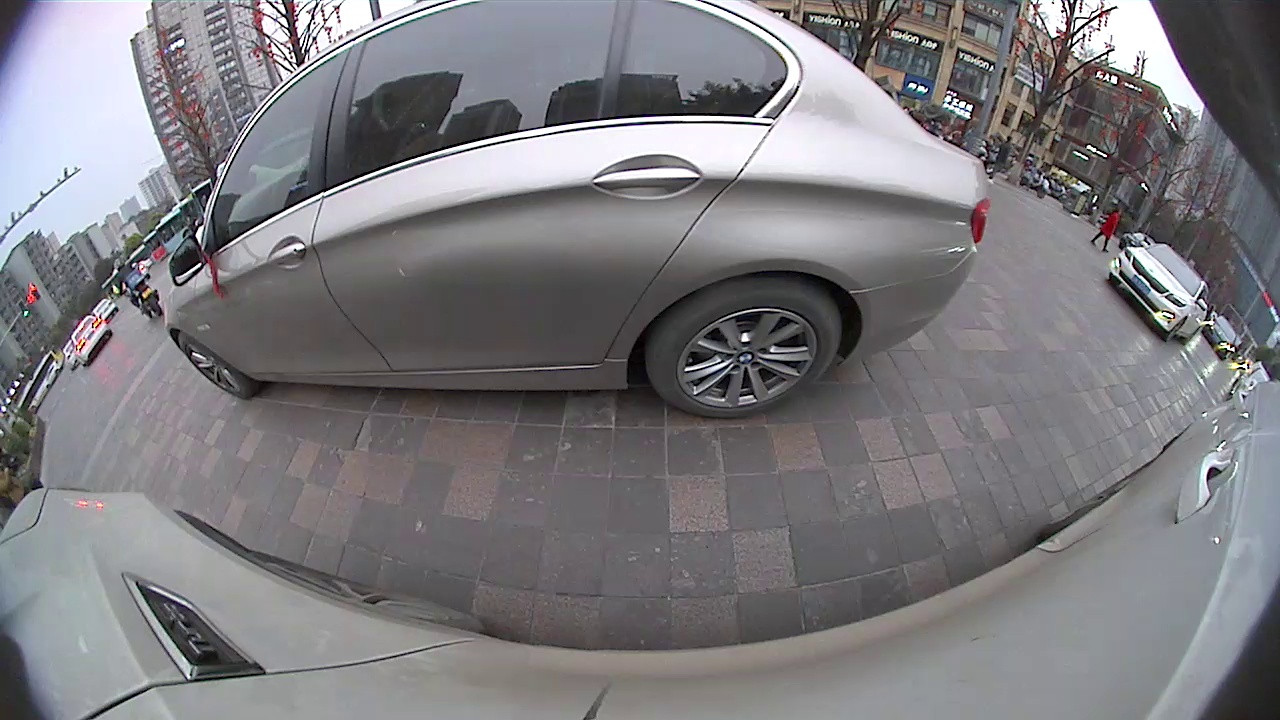car: (161, 2, 991, 421), (1106, 242, 1210, 346), (69, 313, 114, 369), (1204, 318, 1243, 359)
front: (176, 327, 252, 402)
person: (1104, 206, 1118, 252)
rear: (643, 273, 847, 421)
rider: (111, 260, 166, 320)
